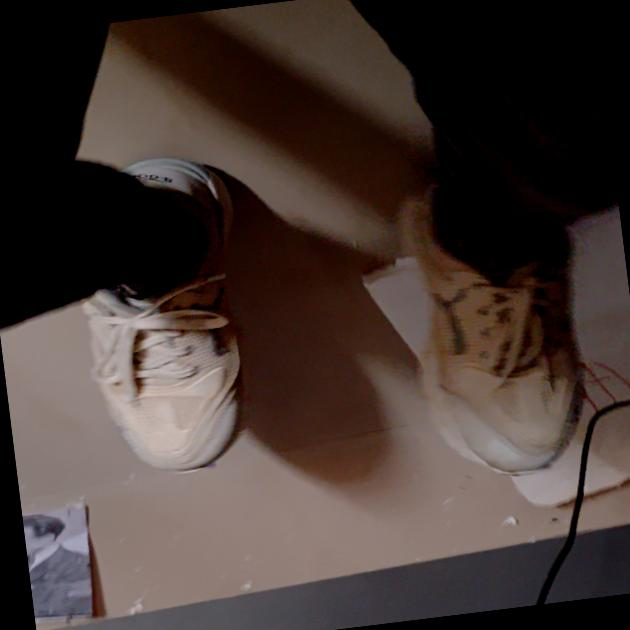shoes: (36, 121, 630, 558)
